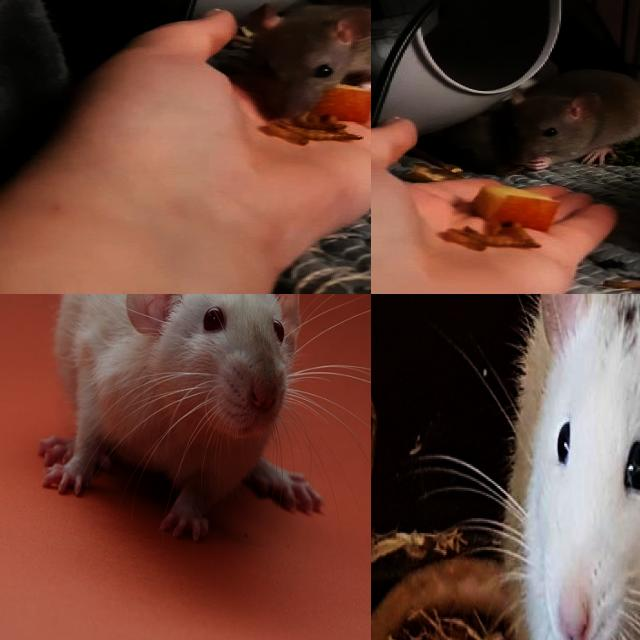rat: (33, 294, 301, 542), (470, 294, 640, 640), (247, 4, 371, 129), (497, 69, 640, 170)
